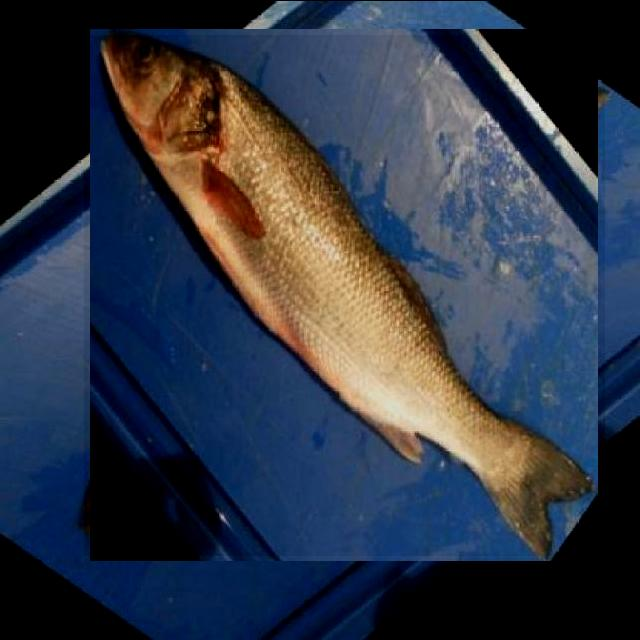Healthy Fish: (84, 34, 605, 555)
